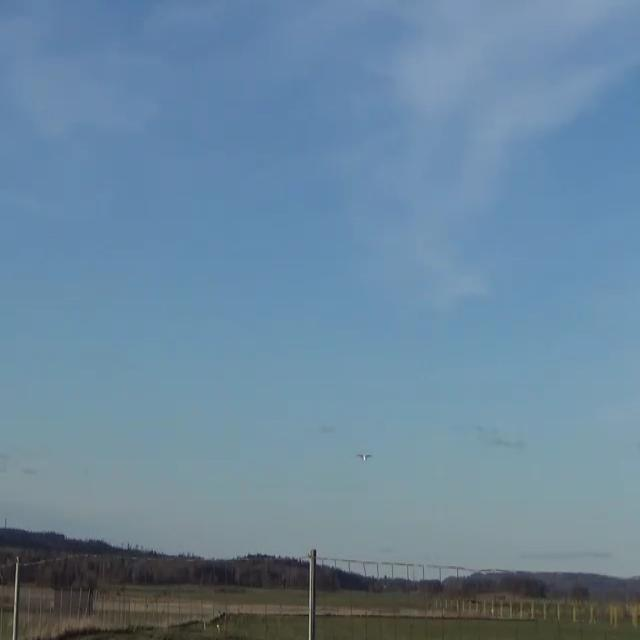AirPlane: (338, 430, 392, 485)
